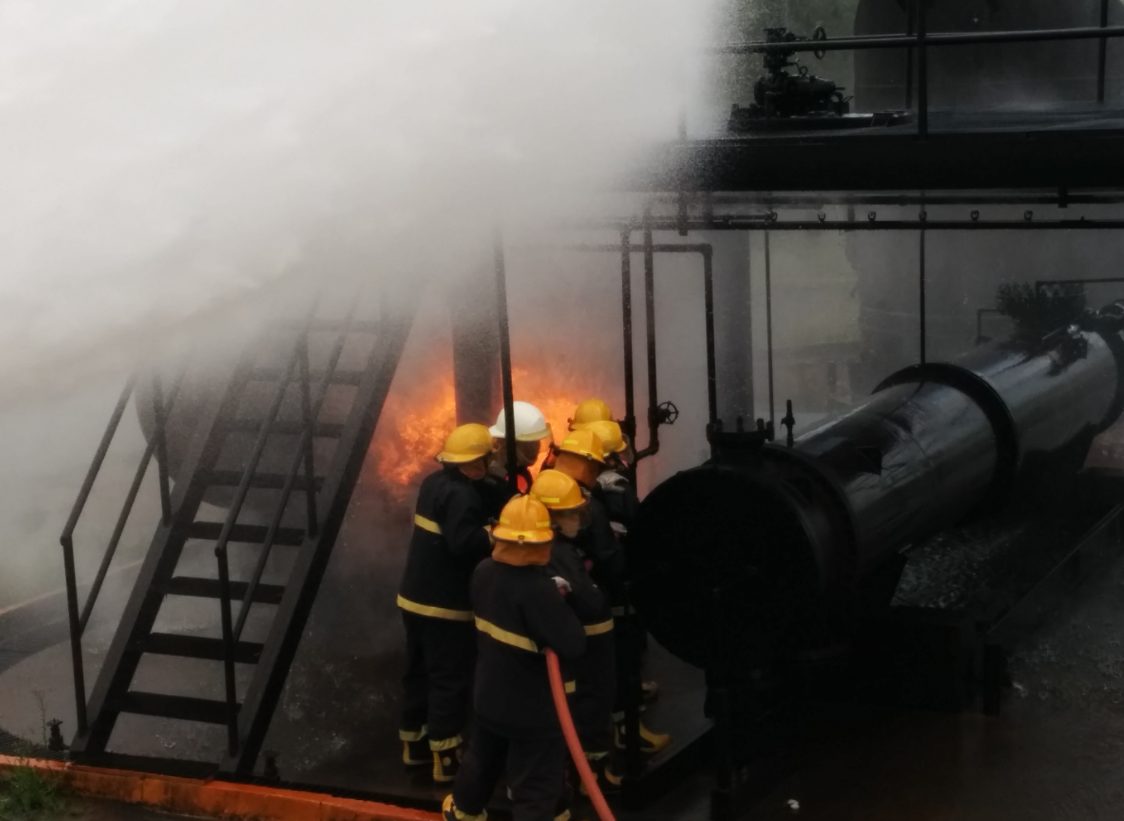喷灌水雾: (0, 0, 775, 456)
